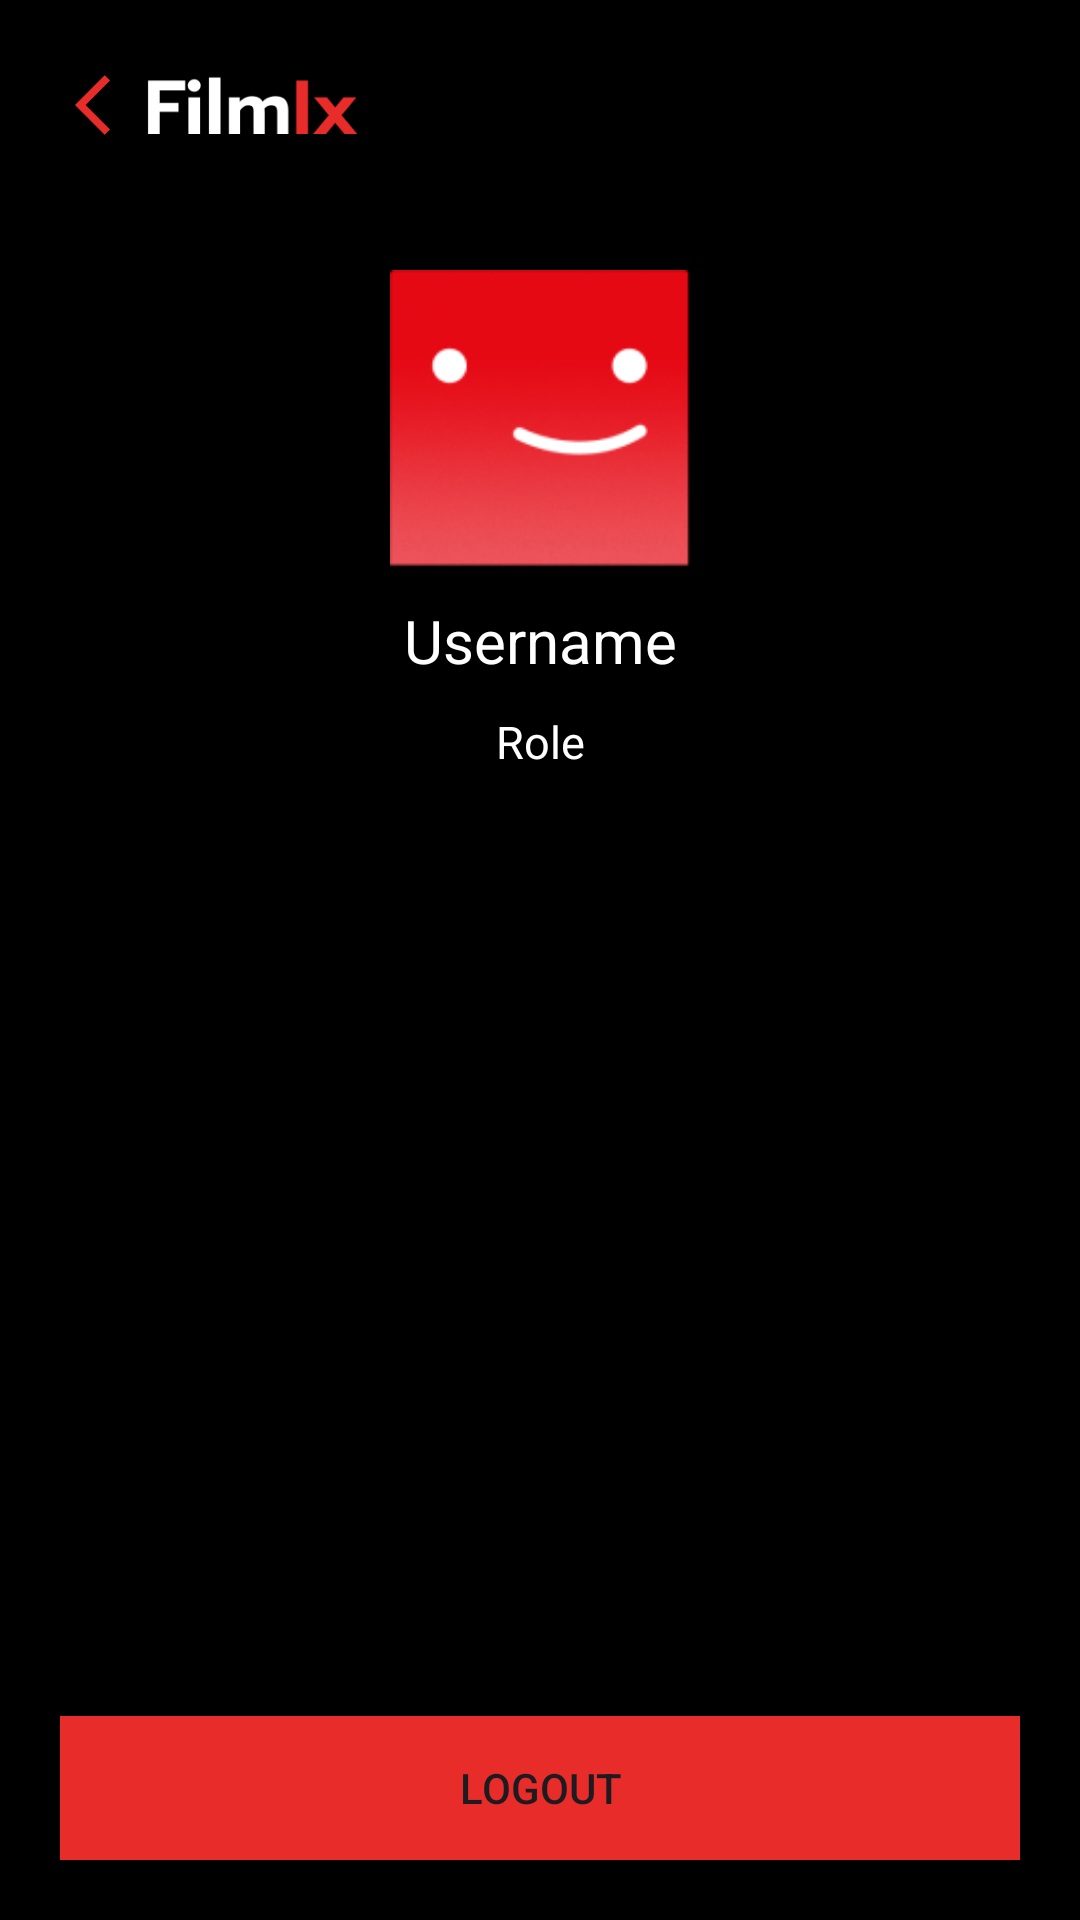

Locate icon controls on the screen. Image size 1080x1920, boxes as {"x1": x1, "y1": y1, "x2": x2, "y2": y2}.
backbutton: {"x1": 75, "y1": 75, "x2": 110, "y2": 135}
person: {"x1": 390, "y1": 270, "x2": 690, "y2": 566}
